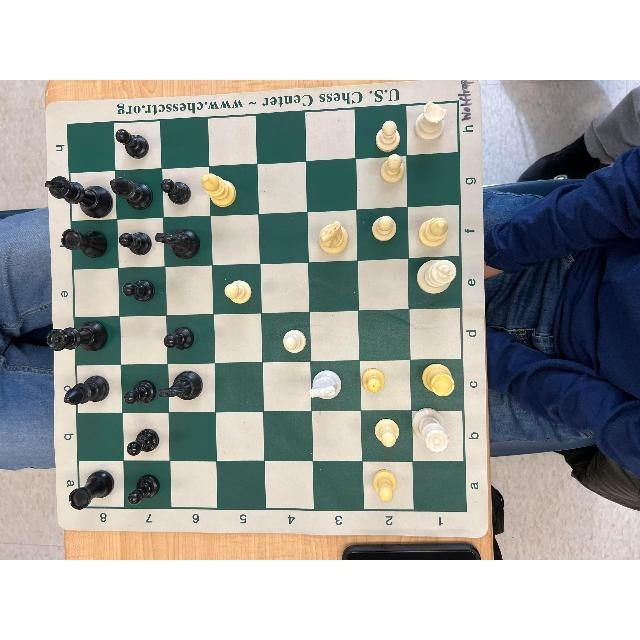black-bishop: (110, 176, 153, 209), (64, 375, 110, 405)
black-king: (44, 176, 113, 218)
black-knight: (155, 229, 200, 259), (158, 371, 203, 399)
black-pawn: (115, 128, 149, 159), (128, 474, 160, 505), (127, 428, 159, 456), (123, 380, 156, 404), (161, 179, 191, 205), (118, 232, 151, 255), (122, 280, 155, 302), (163, 327, 194, 349)
black-queen: (46, 321, 108, 351)
black-rook: (68, 470, 114, 510), (61, 229, 107, 257)
white-bishop: (202, 173, 236, 207), (418, 217, 448, 247)
white-king: (417, 260, 457, 294)
white-knight: (318, 221, 349, 255), (308, 370, 341, 400)
white-pawn: (375, 120, 400, 152), (373, 470, 397, 502), (223, 279, 252, 304), (374, 418, 399, 447), (380, 154, 404, 183), (372, 215, 396, 241), (361, 367, 385, 392), (283, 329, 307, 353)
white-queen: (412, 408, 450, 452)
white-rook: (414, 100, 446, 142), (422, 363, 454, 397)
